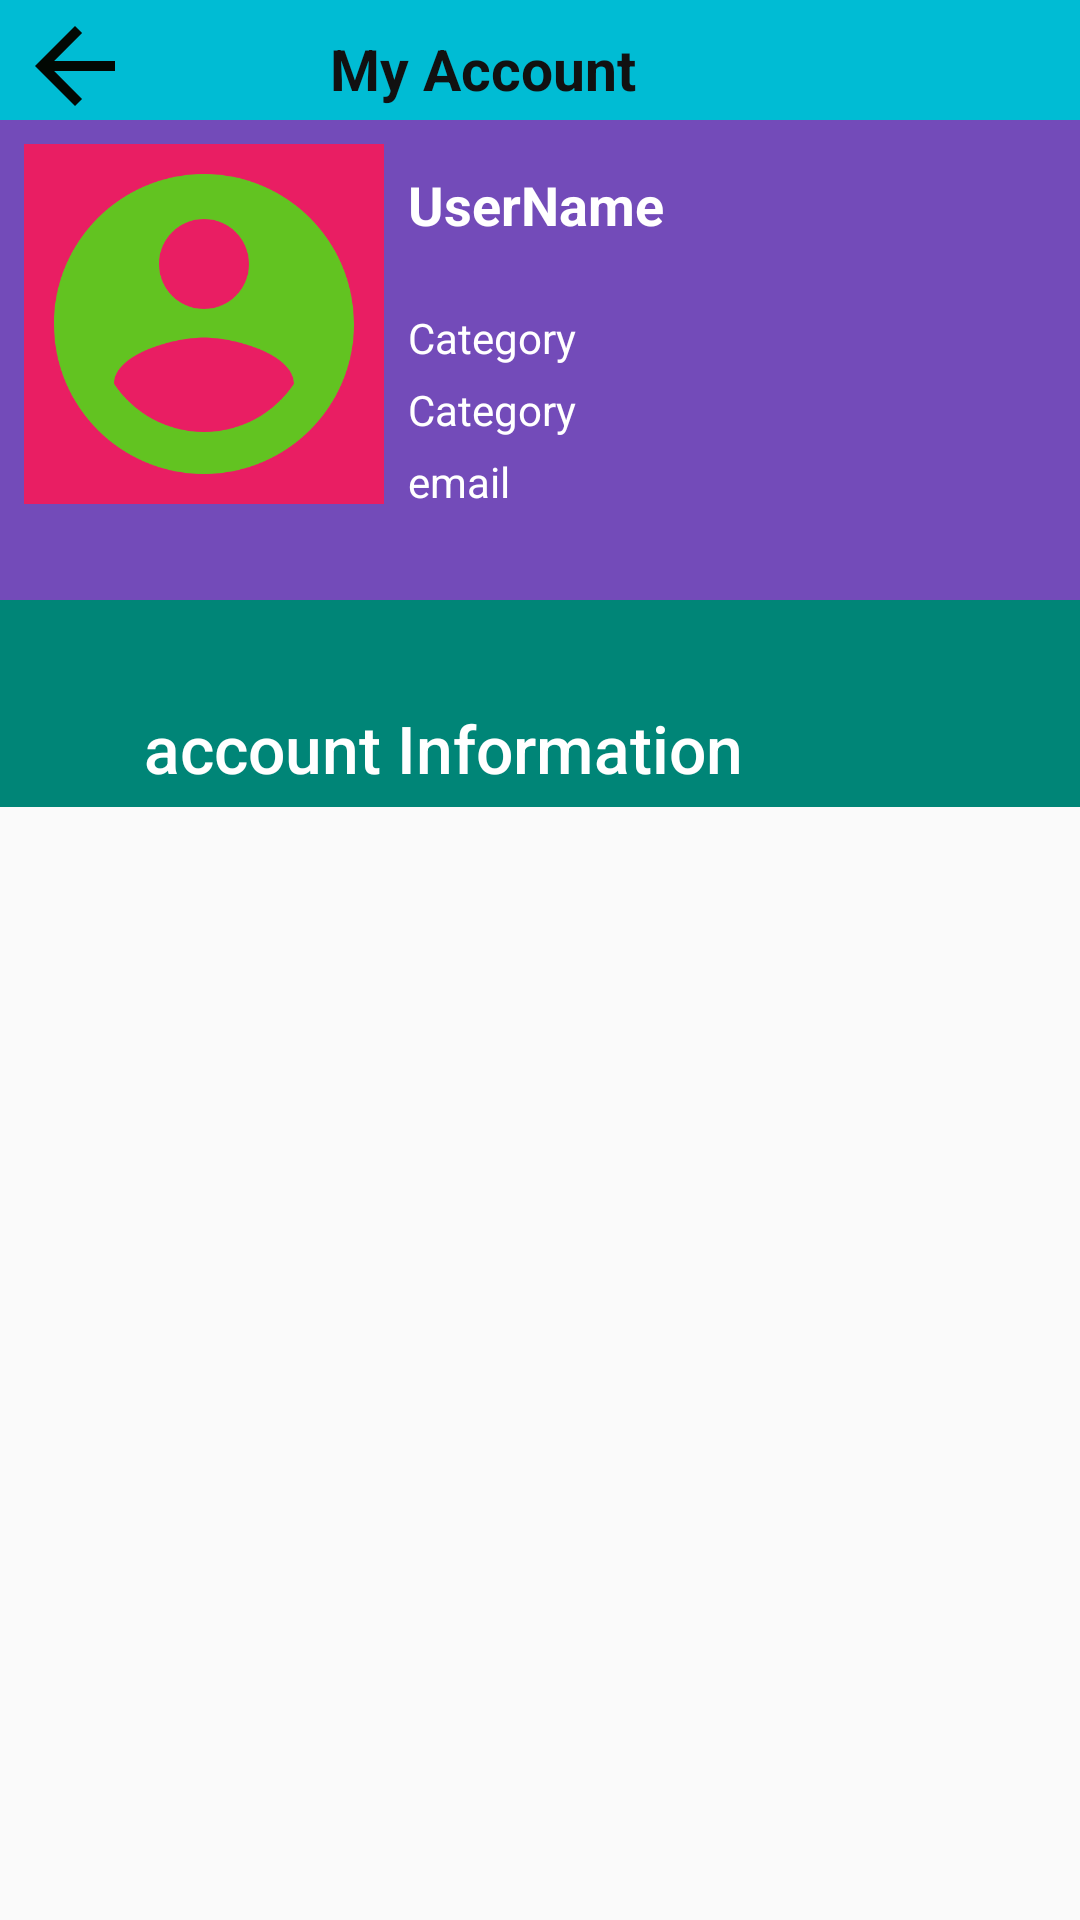

Named icons in this screenshot (1080w x 1920h) and their bounding boxes, (x1, y1, x2, y2):
account circle: (24, 144, 384, 504)
back arrow: (35, 26, 115, 106)
